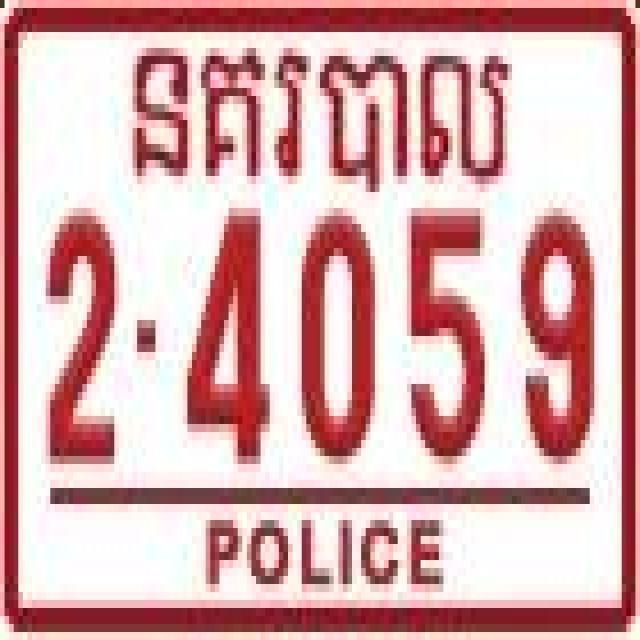Police: (123, 32, 520, 201)
